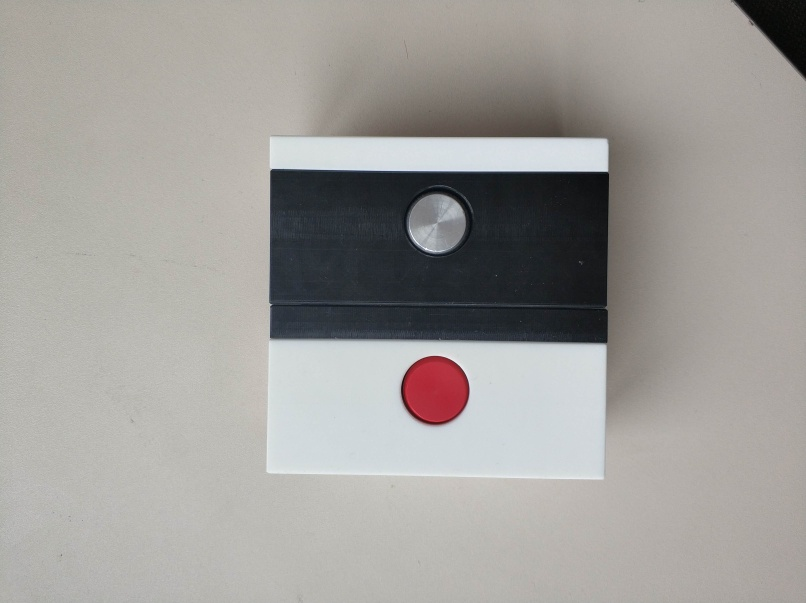black+white+red: (263, 305, 613, 484)
white+black+silver: (265, 133, 611, 304)
